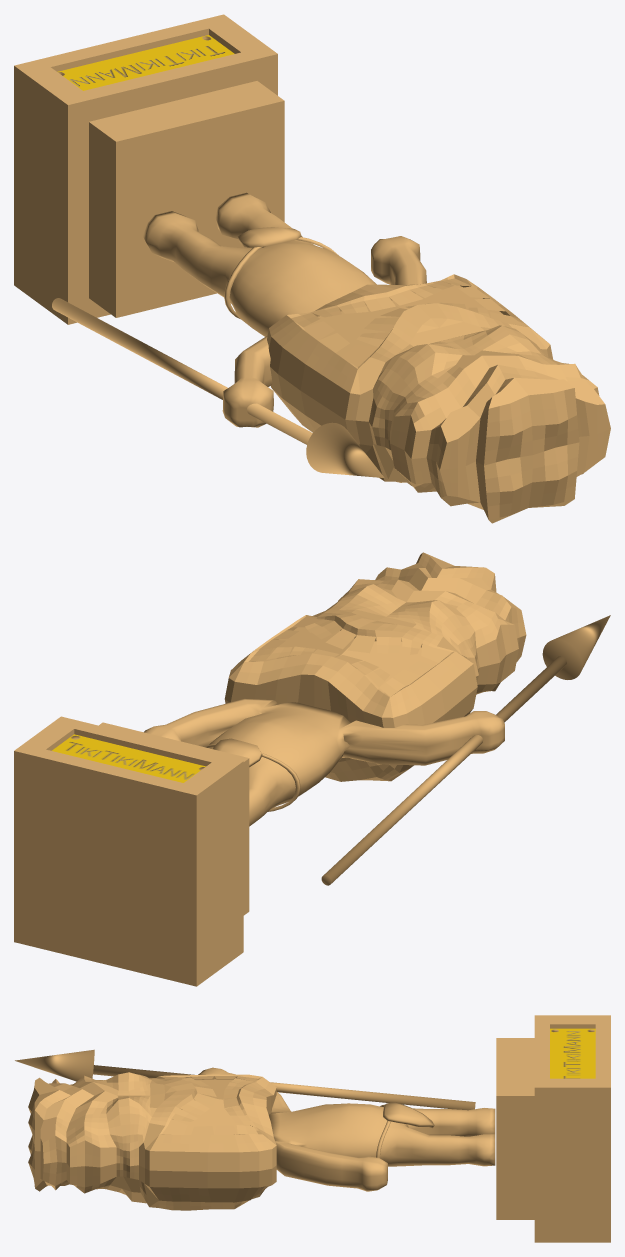
Rendered from TikiTikiStatue.fbx.
The picture shows the model from 3 angles, top to bottom: view 1: azimuth 30°, elevation 25°; view 2: azimuth 150°, elevation 25°; view 3: azimuth 270°, elevation 25°; orthographic projection. The views are drawn at different scales.
Visible parts, largest first — view 1: Cube; view 2: Cube; view 3: Cube.
Boxes of the visible parts, <box> form: Cube: <box>14,14,610,523</box>; Cube: <box>14,552,610,986</box>; Cube: <box>15,1015,610,1242</box>.
Size of the model in its own units: 2.29 by 1.56 by 5.44.
